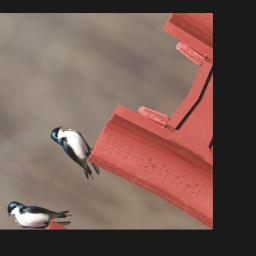Swallow: (39, 119, 113, 183)
